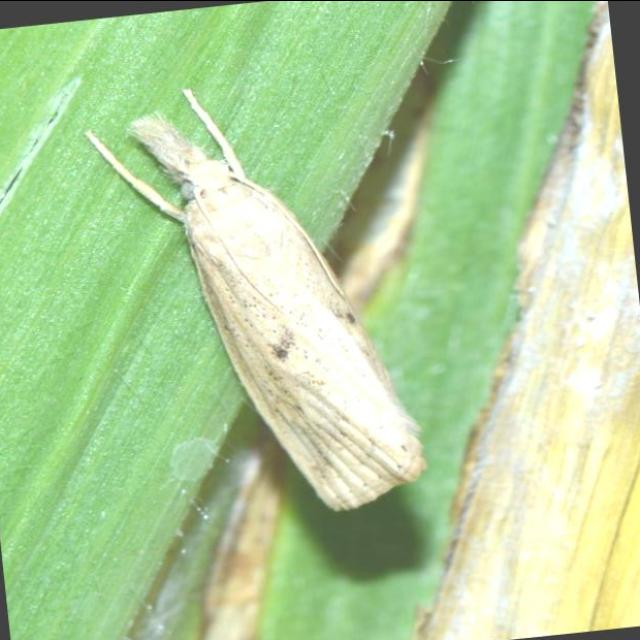stem borer: (119, 89, 424, 509)
